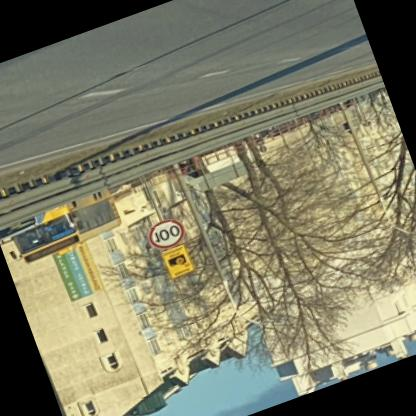speedlimit: (144, 218, 186, 254)
